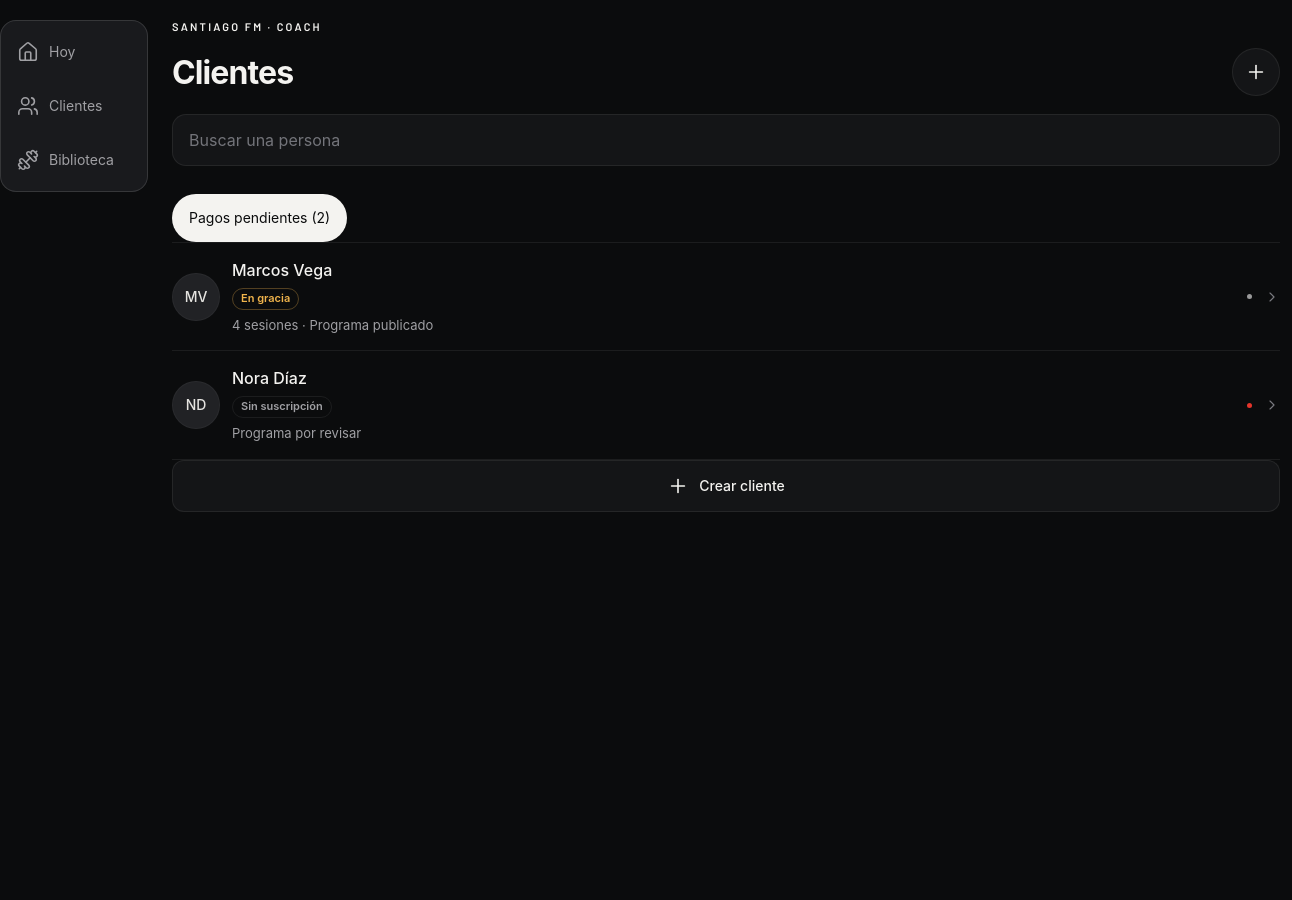
«Ver todos los clientes» deja la dirección sin filtro
Expected: the button "Pagos pendientes (2)" is shown, [172,194,347,242]
Type "zzz" into the field named "Buscar cliente" at [726, 140], box [172,114,1280,166]
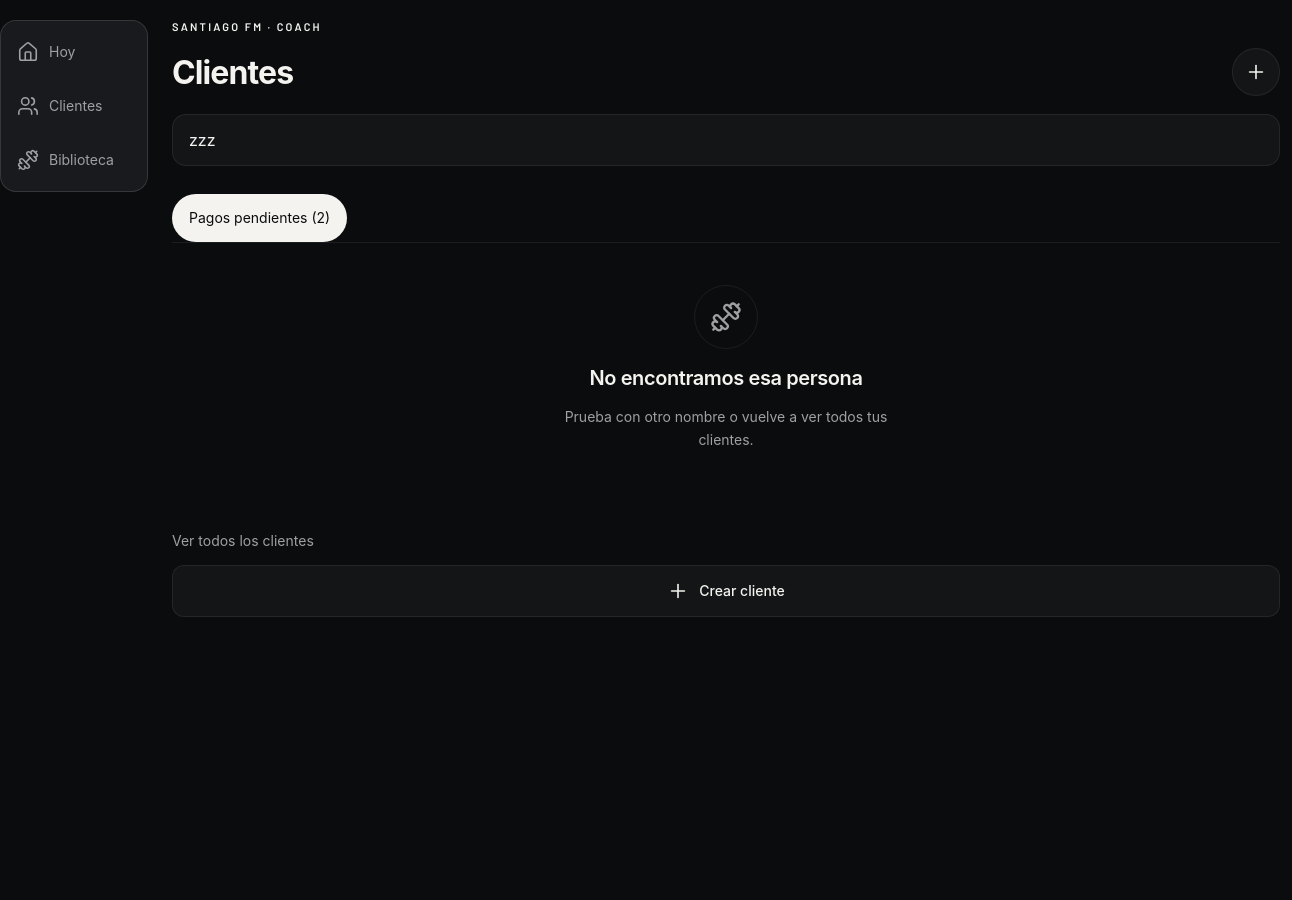
Click the button "Ver todos los clientes" at [243, 541], box [172,517,314,565]
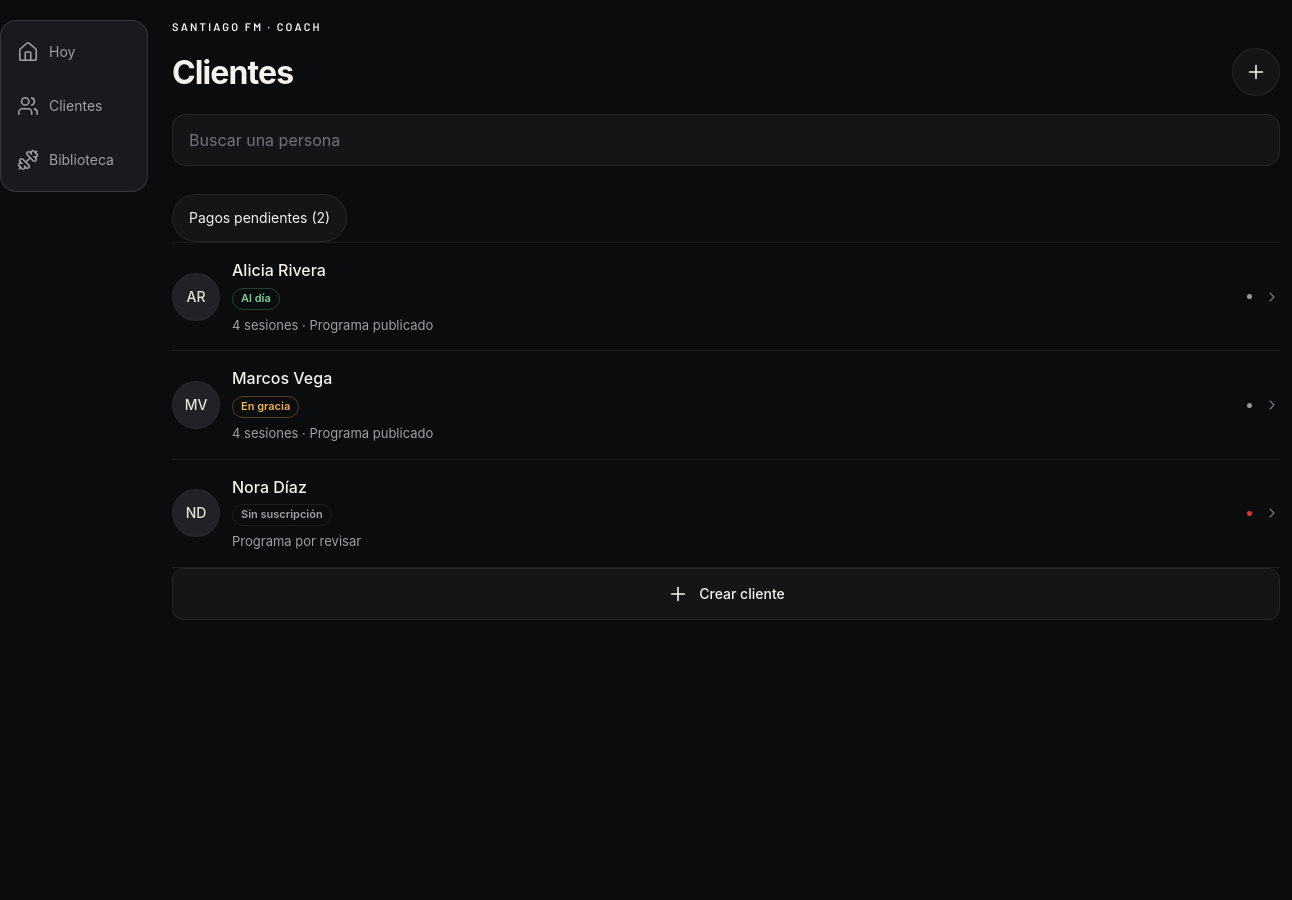
Now the text "Alicia Rivera" is shown, box [232,260,326,280]
